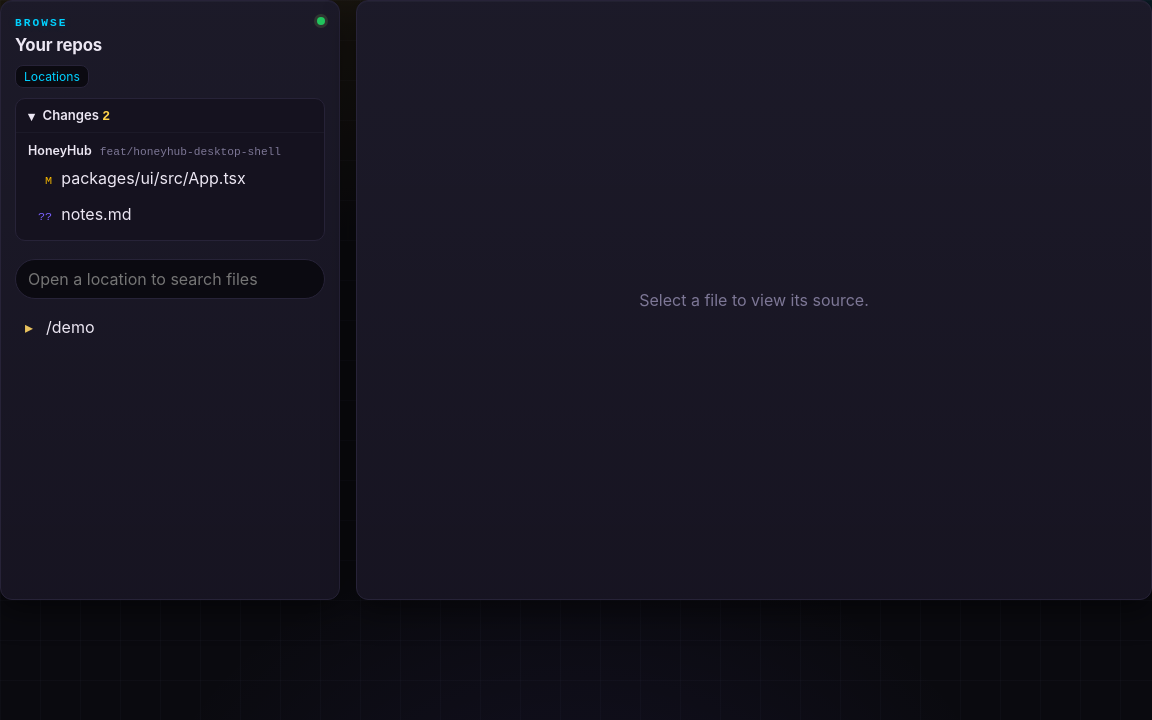
Test: BrowseView › runs a filename search and renders the result entries
# Get into a folder so search is enabled (the input is disabled at the top level).
Click the button "▸ /demo" at (70, 327), box top-left (15, 309), bottom-right (325, 345)
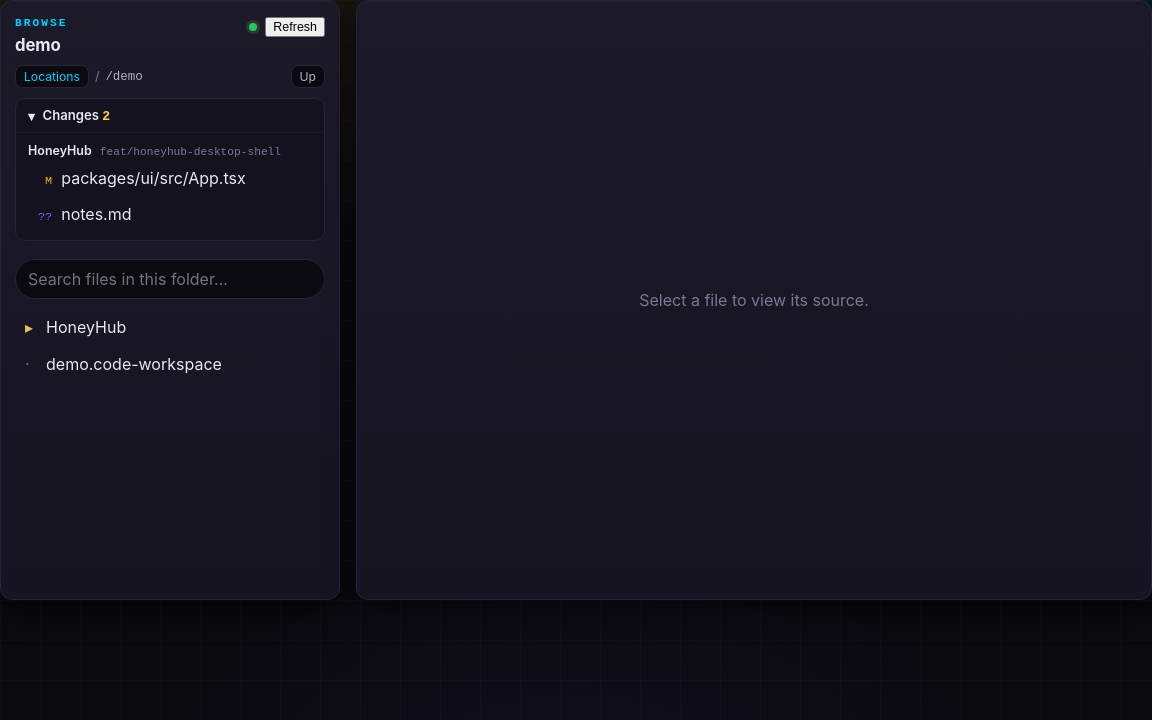
Click the button "▸ HoneyHub" at (86, 327), box top-left (15, 309), bottom-right (325, 345)
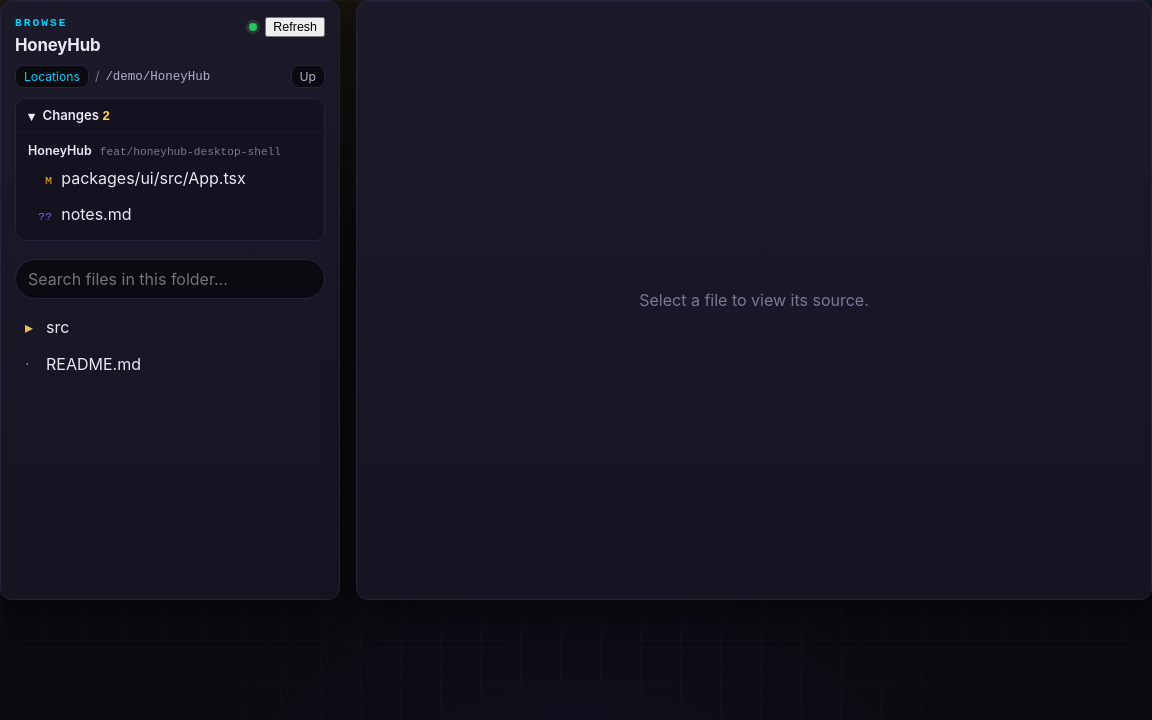
Expected: the button "· README.md" is shown, top-left (15, 346), bottom-right (325, 382)
# Type a query: the debounced search fires and renderSearchEntries lists the hits.
Type "README" into the field labelled "Search files" at (170, 279), box top-left (15, 259), bottom-right (325, 299)
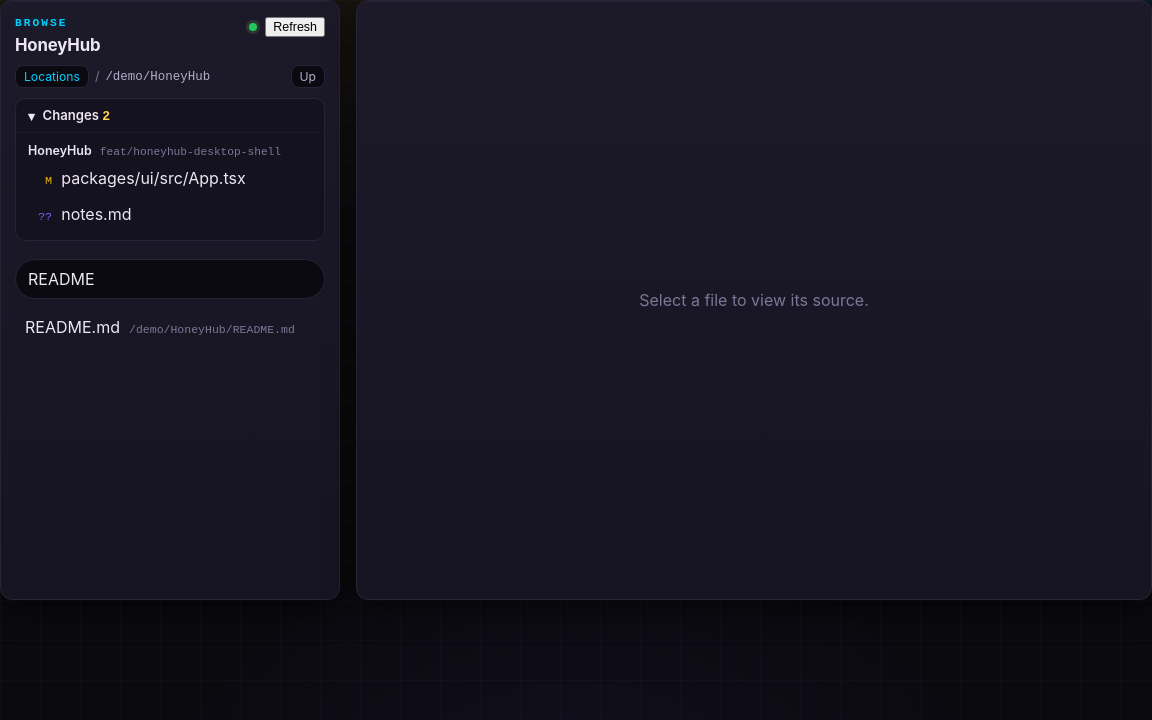
Expected: the text titled "/demo/HoneyHub/README.md" is shown, top-left (129, 323), bottom-right (295, 336)
